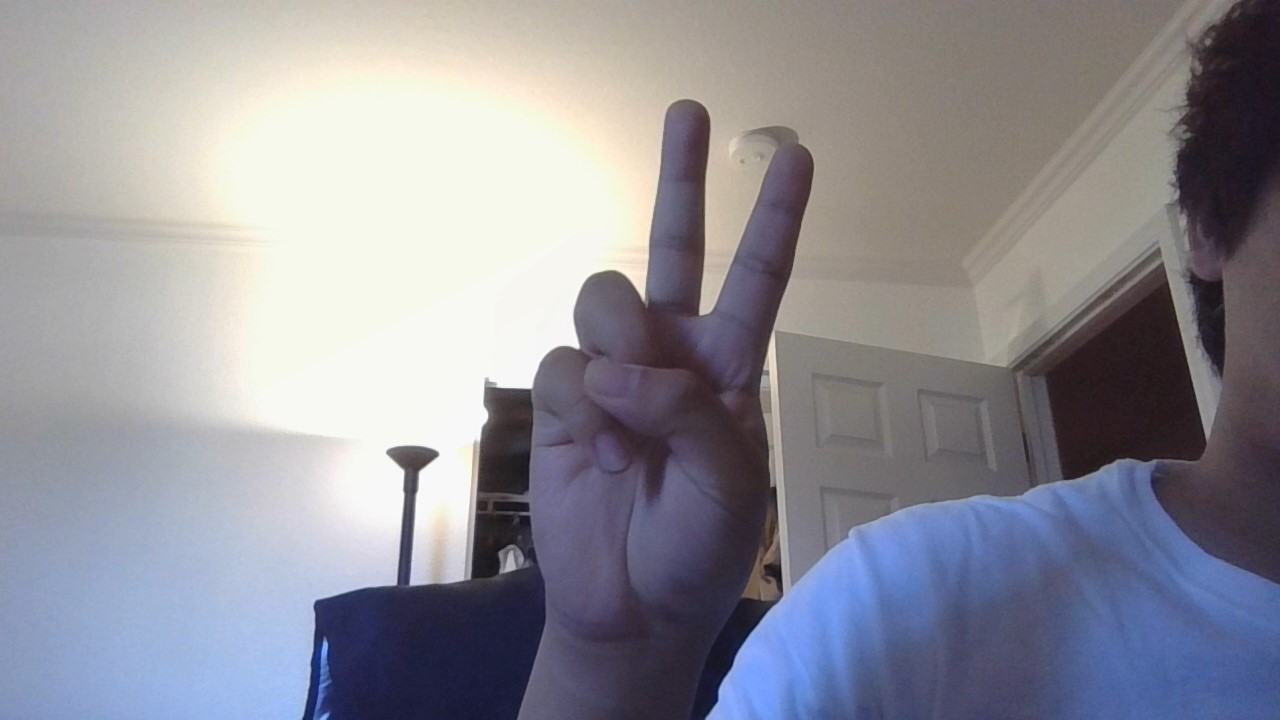v: (497, 79, 829, 645)
